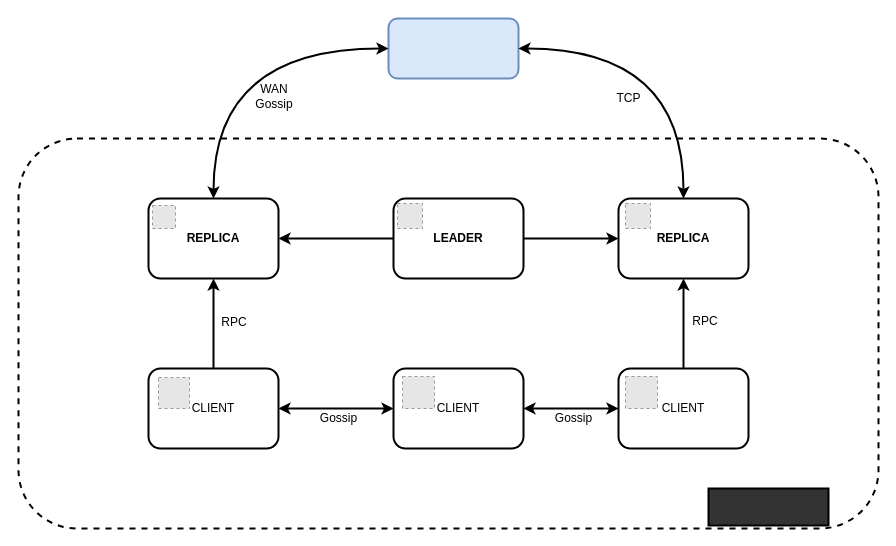
The diagram is 896 pixels wide and 546 high, and some of its shapes have lost their labels. Grey dashed boxes stand in for pictures. Each missing label, with the centre of its shape:
DATACENTER N: the point at 768,506
Internet: the point at 453,48
